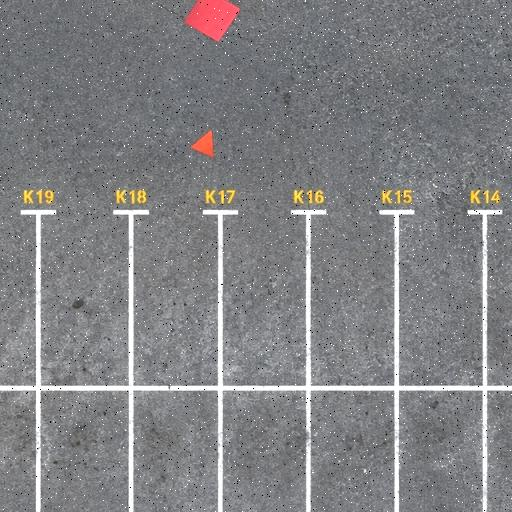RED_SQUARE: (182, 0, 241, 42)
